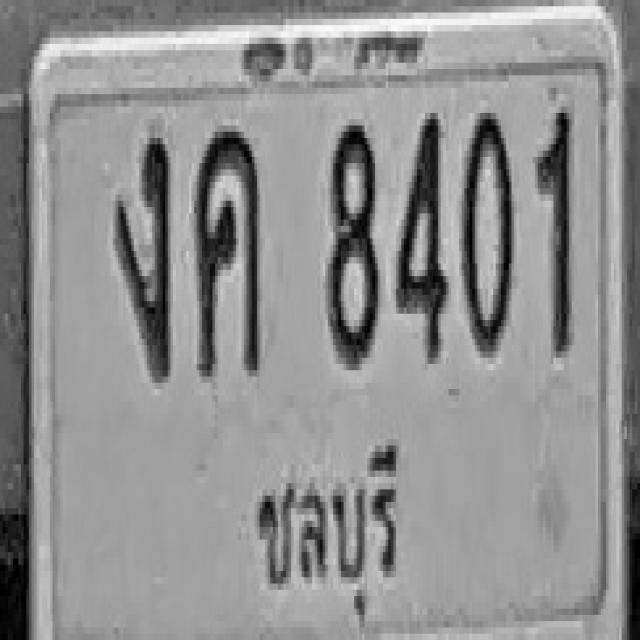0: (460, 110, 513, 354)
1: (535, 103, 572, 354)
13KhorKhwai: (195, 126, 261, 377)
16NgorNgu: (113, 132, 170, 383)
4: (395, 107, 447, 364)
8: (327, 119, 379, 364)
Chonburi: (252, 444, 401, 639)
